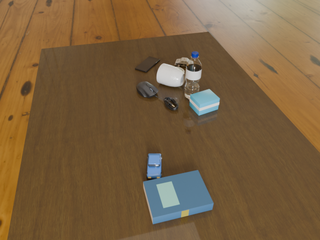book: (143, 170, 213, 224)
bottle: (184, 52, 202, 100)
box: (190, 89, 220, 115)
cup: (157, 64, 185, 87)
mouse: (136, 82, 158, 98)
phone: (135, 57, 160, 72)
toy_car: (147, 154, 162, 179), (175, 58, 189, 67)
